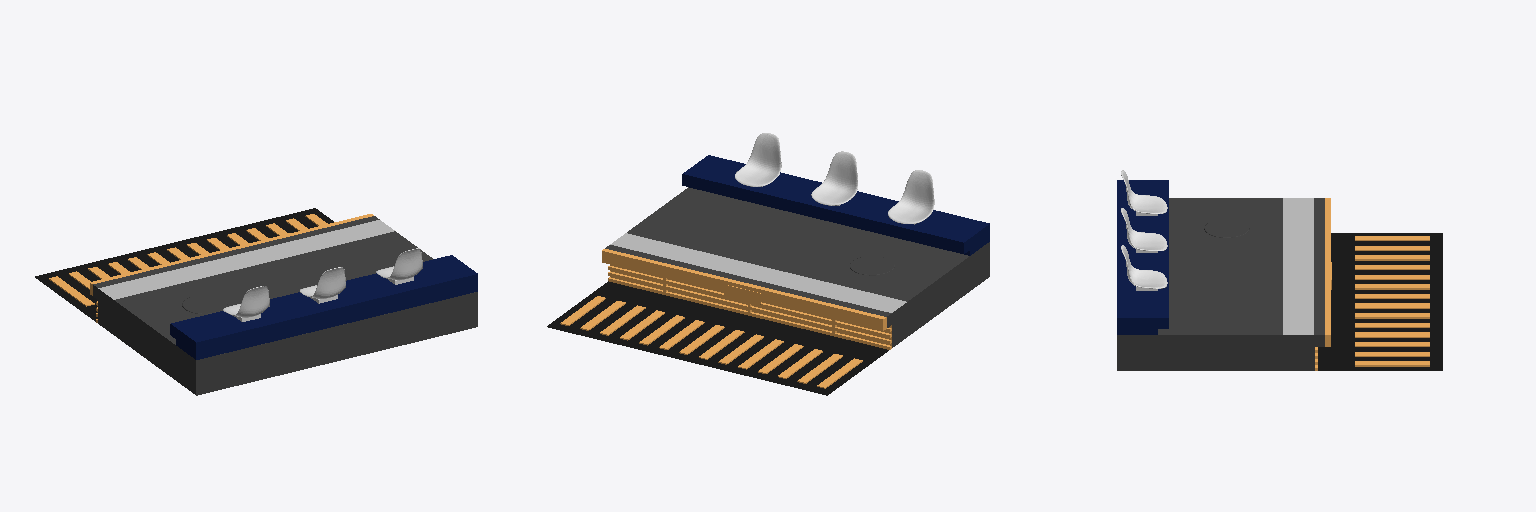
File: orelsan_base-scene.obj
3 views of the same model, side by side, from view 1: azimuth 30°, elevation 25°; view 2: azimuth 150°, elevation 25°; view 3: azimuth 270°, elevation 25° (orthographic).
Visible parts, largest first — view 1: Base_quai, Base_sièges, Base_scène, Bandes, Siège_2, Siège_3, Siège_1, Cylinder; view 2: Base_quai, Base_scène, Base_sièges, Bandes, Sous-quai, Siège_2, Siège_1, Siège_3, Cylinder; view 3: Base_quai, Base_scène, Bandes, Base_sièges, Siège_3, Siège_1, Siège_2, Cylinder.
Part boxes in pixels (x1,y1,x2,y2): Base_quai: (90, 214, 477, 395); Base_sièges: (170, 255, 477, 359); Base_scène: (35, 208, 333, 321); Bandes: (49, 214, 327, 306); Siège_2: (300, 267, 345, 303); Siège_3: (376, 248, 422, 284); Siège_1: (223, 286, 269, 321); Cylinder: (182, 295, 227, 313); Base_quai: (602, 187, 989, 347); Base_scène: (547, 281, 888, 395); Base_sièges: (682, 155, 989, 255); Bandes: (560, 296, 862, 388); Sous-quai: (608, 266, 891, 349); Siège_2: (811, 151, 857, 205); Siège_1: (888, 170, 934, 224); Siège_3: (735, 133, 781, 186); Cylinder: (850, 256, 894, 275); Base_quai: (1117, 198, 1330, 370); Base_scène: (1318, 233, 1442, 370); Bandes: (1355, 236, 1429, 366); Base_sièges: (1117, 180, 1168, 334); Siège_3: (1121, 245, 1167, 290); Siège_1: (1121, 170, 1167, 215); Siège_2: (1121, 208, 1167, 252); Cylinder: (1204, 219, 1249, 237).
Bounding box in the file's own units: 500 × 156 × 500.